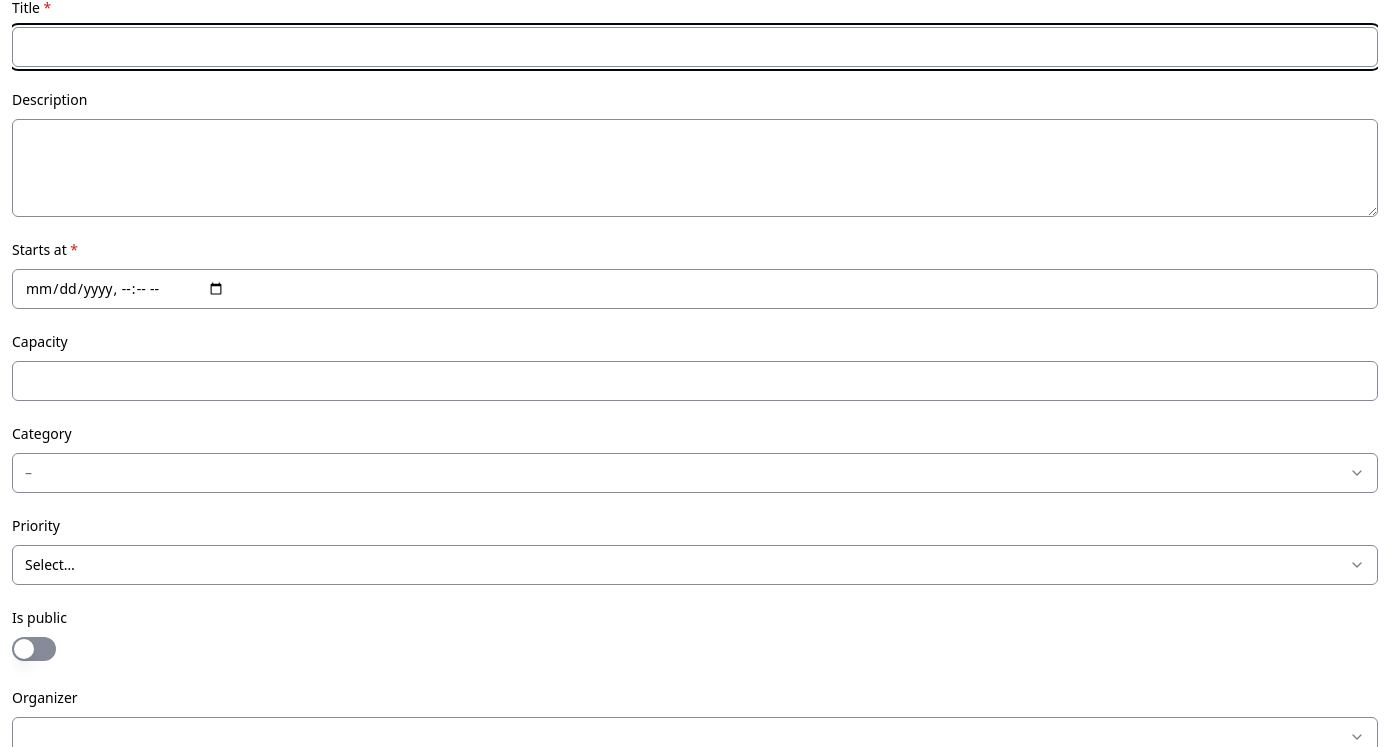
it: ResourceForm submit: every failure status, and the typed input stays › offline: a banner in plain words, focused; values kept
Step 1. Type "Spring gala" into the field labelled "Title" → (695,47), box [12, 27, 1378, 67]
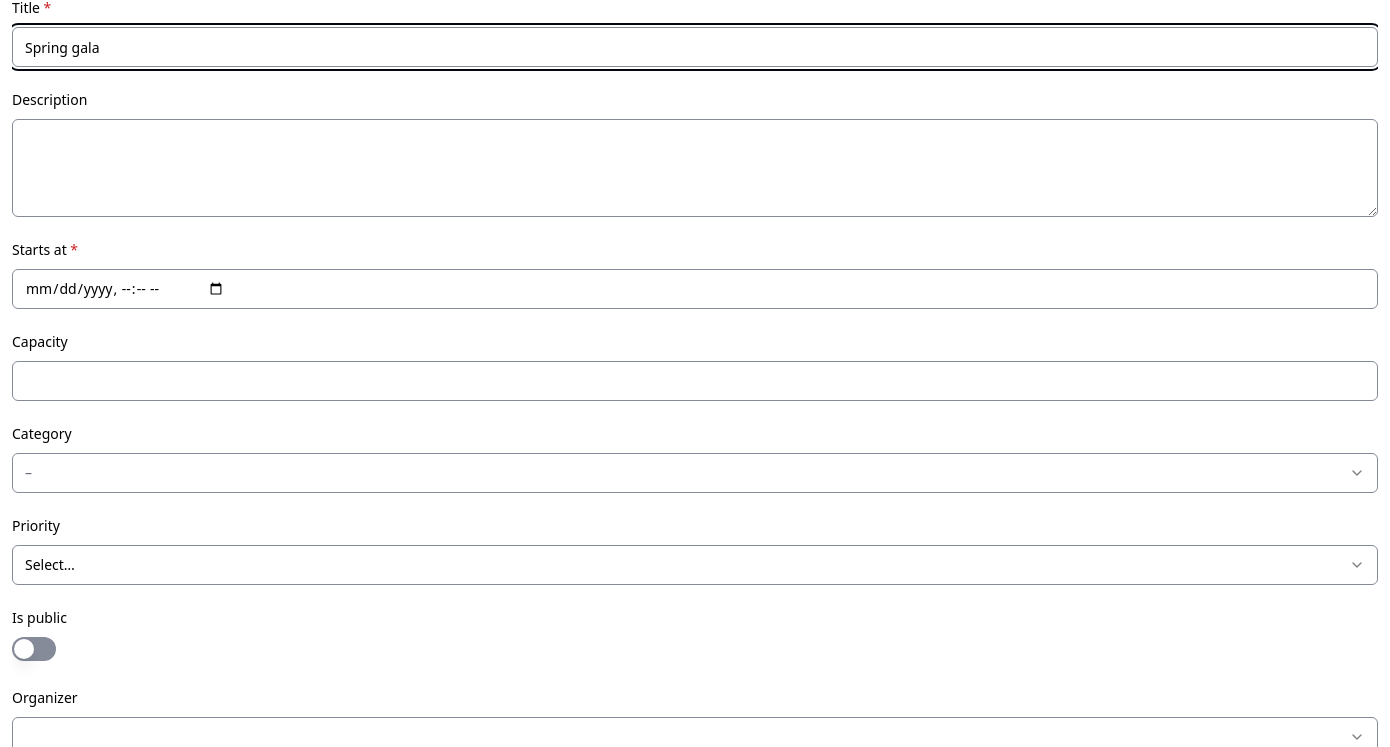
Step 2. Type "2026-05-01T18:30" into the field labelled "Starts at *" → (695,289), box [12, 269, 1378, 309]
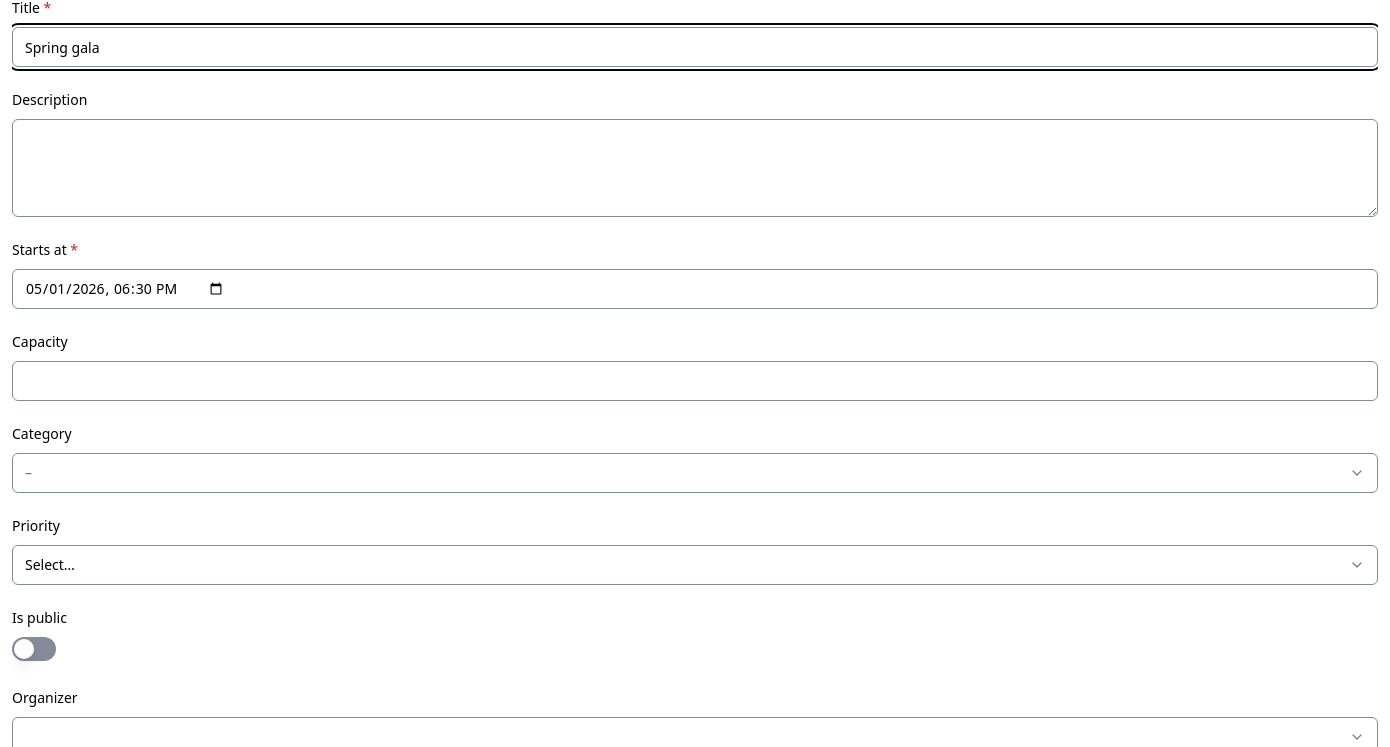
Step 3. Type "Bring snacks" into the text box labelled "Description" → (695,168), box [12, 119, 1378, 217]
(page scrolled)
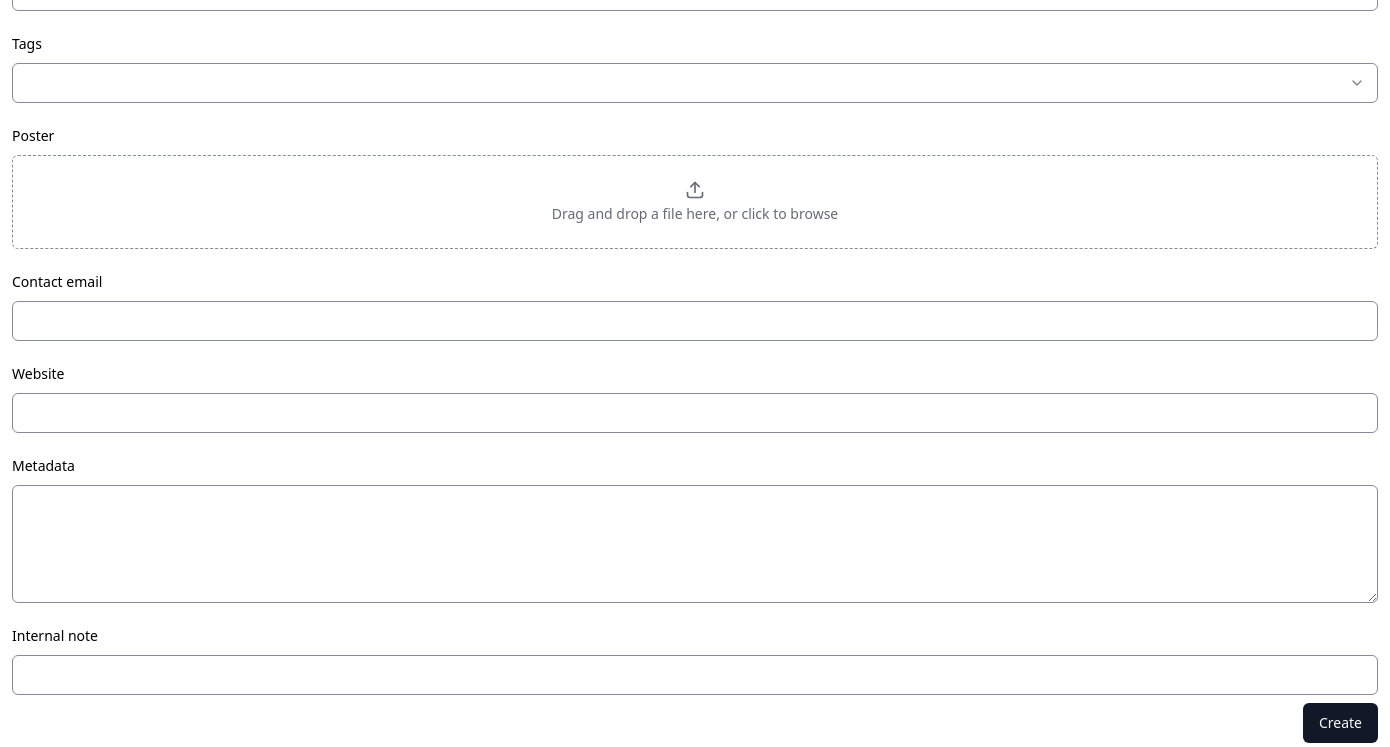
Step 4. Click the button "Create" → (1340,723), box [1303, 703, 1378, 743]
(page scrolled)
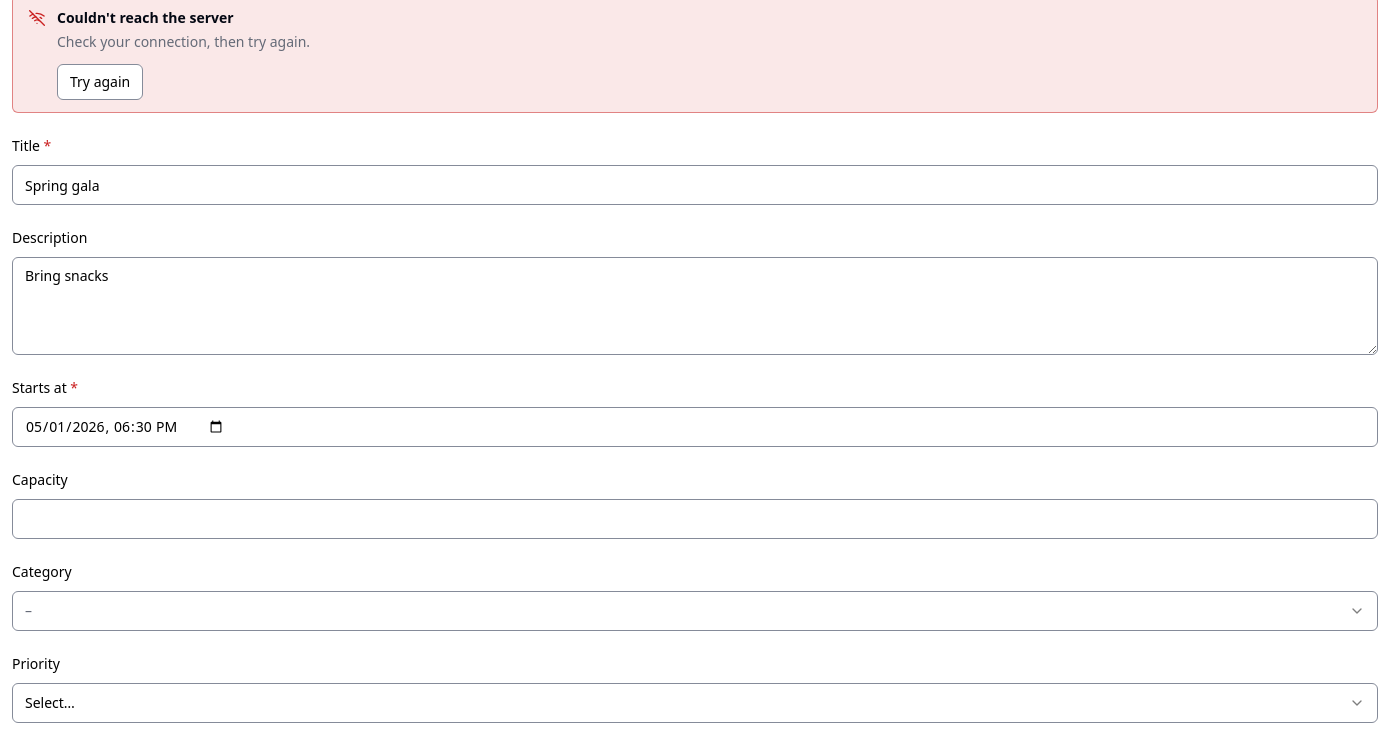
Check: the message shows "Couldn't reach the server", box [57, 8, 234, 27]
